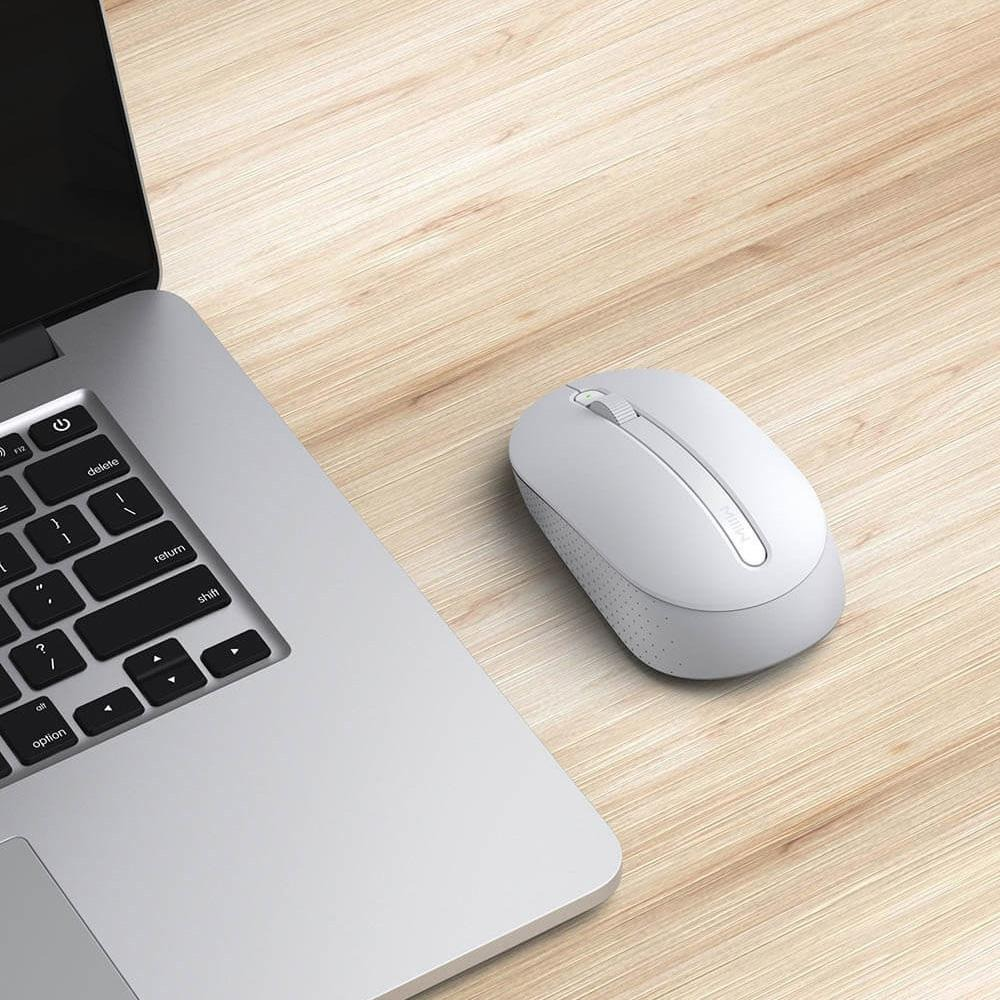mouse: (492, 360, 853, 696)
